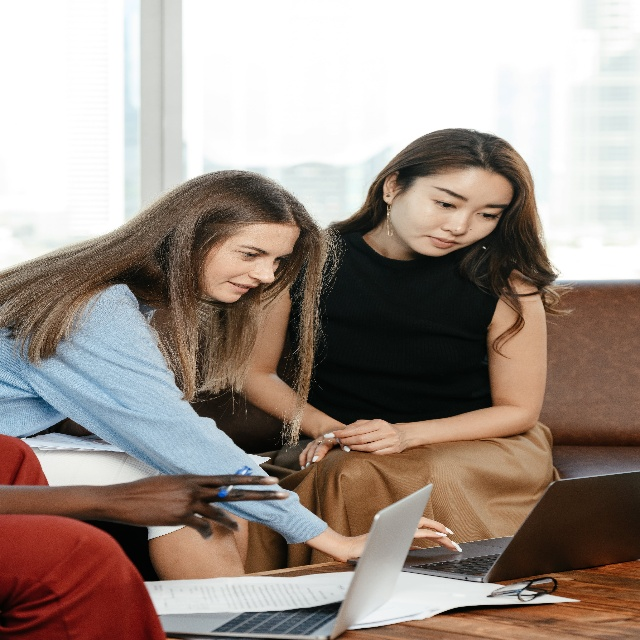Gafas: (487, 573, 559, 602)
Sin_guantes: (118, 471, 287, 520), (342, 514, 461, 567), (322, 410, 399, 455), (298, 430, 337, 468)
